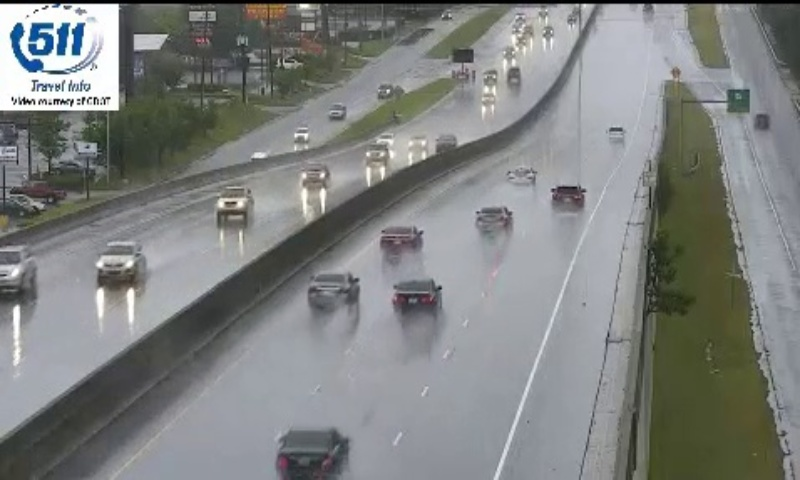car: (276, 426, 348, 480), (307, 270, 358, 306), (393, 278, 441, 314), (379, 224, 423, 255), (475, 205, 512, 235), (551, 184, 585, 211), (507, 163, 537, 186)
